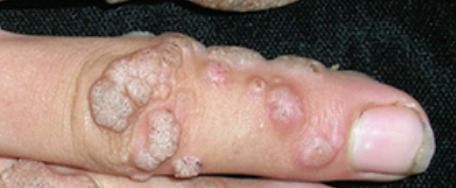Warts: (82, 42, 192, 129), (133, 104, 188, 175), (248, 70, 311, 130), (298, 137, 351, 169), (171, 148, 209, 180), (202, 62, 237, 89)
